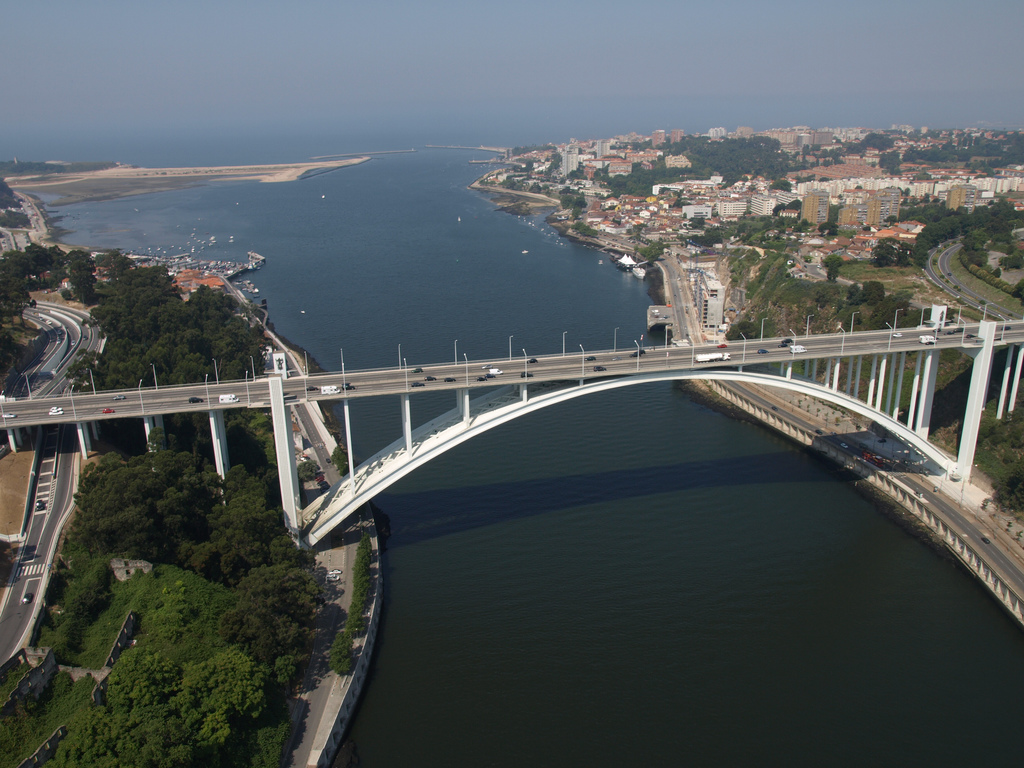arrabida: (0, 304, 1023, 556)
